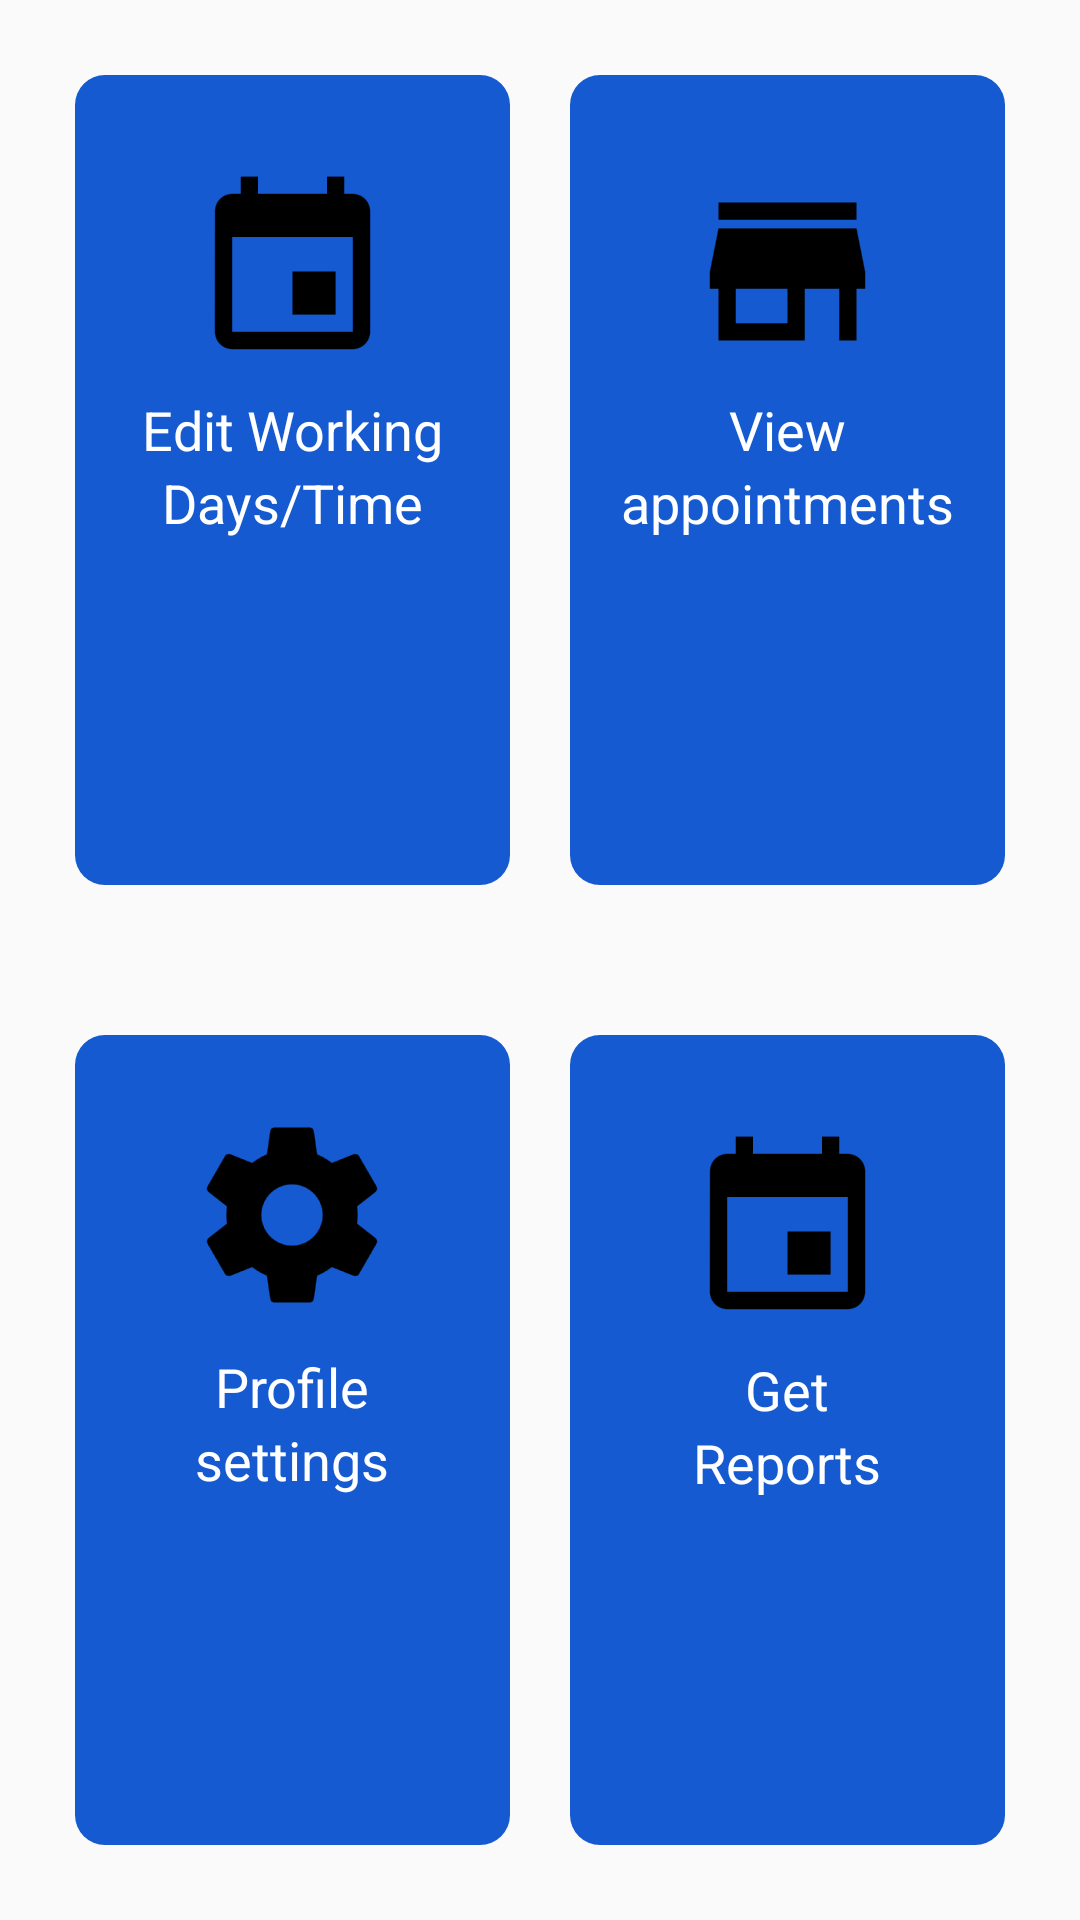

Screen size 1080px×1920px. Icon name, then its center in pixels as [x,y]:
schedule appointment: [292,263], [787,1223]
